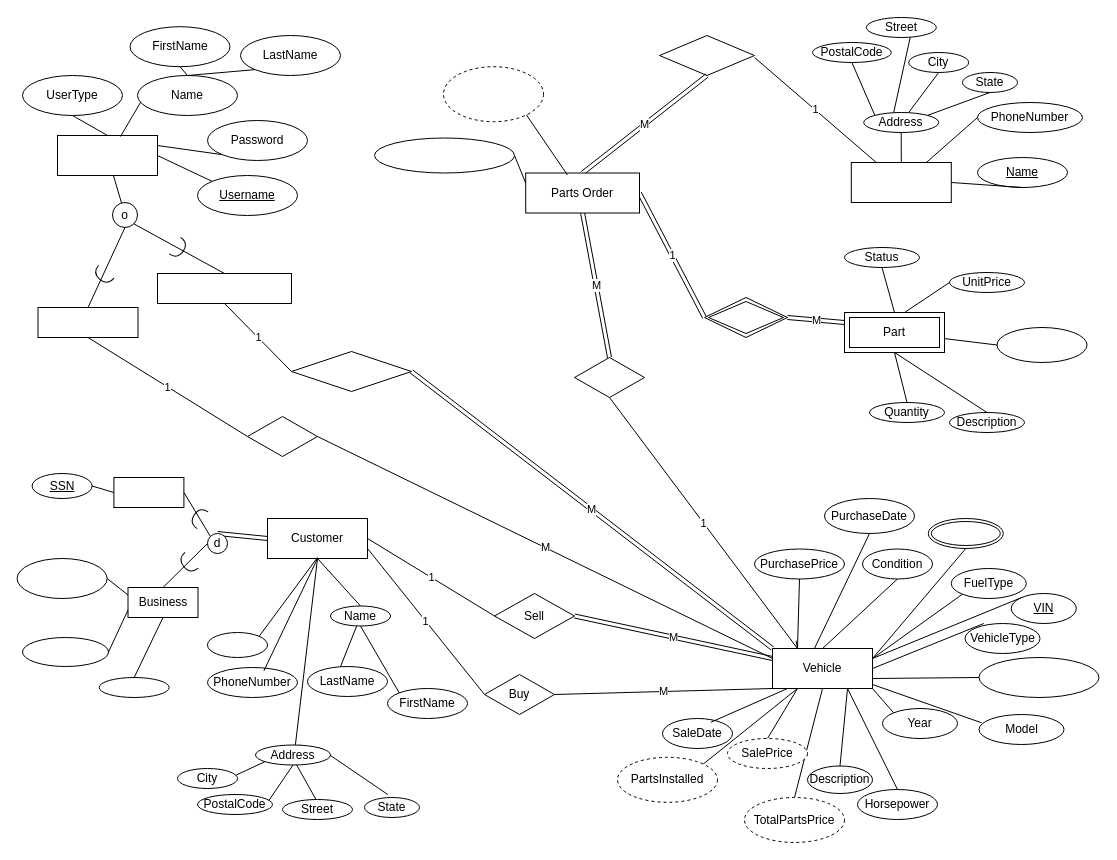
Image size: 1117x860. Some labels were removed from this diagram. The shapes that lost their labels are listed below. From the top down, each one's centre as x and y in pixels, then its label:
the point at 706,55: Supplies
the point at 493,94: TotalPrice
the point at 107,155: PrivilegedUser
the point at 444,155: PartsOrderNumber
the point at 900,182: Vendor
the point at 224,288: VehicleBuyer
the point at 87,322: VehicleSeller
the point at 746,317: Contains
the point at 1041,344: PartNumber
the point at 351,371: PurchasedBy
the point at 609,377: Has
the point at 282,436: SoldBy
the point at 148,492: Individual
the point at 965,533: Colors
the point at 61,578: BusinessName
the point at 65,651: ContactTitle
the point at 237,645: Email
the point at 133,687: TIN
the point at 1038,677: Manufacturer
